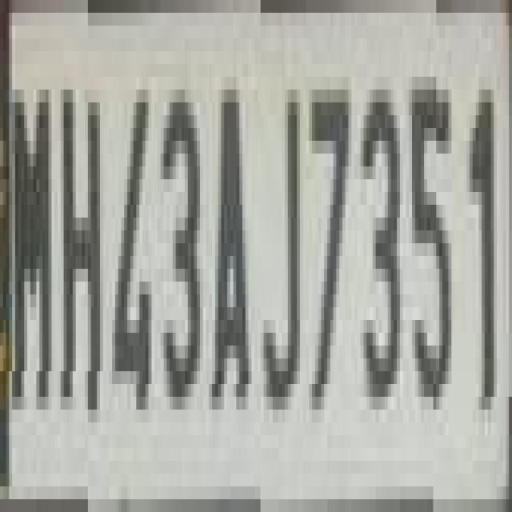number plate: (3, 0, 482, 512)
